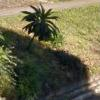Tree: (16, 2, 69, 60)
